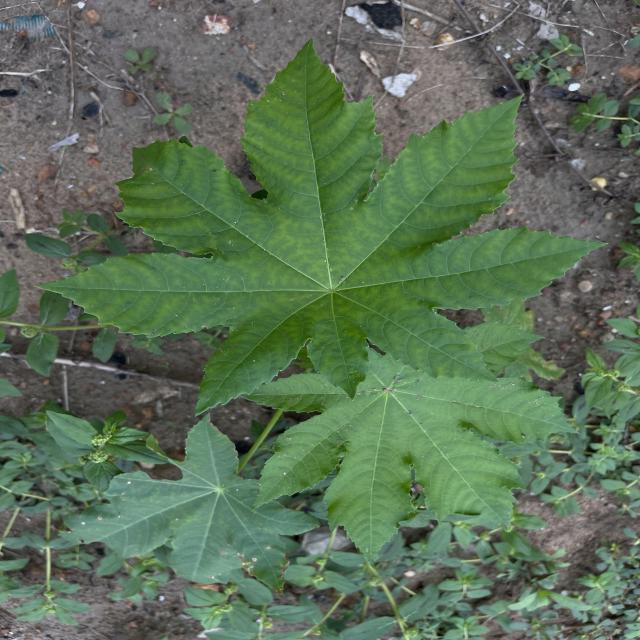Ricinus communis linn: (29, 32, 616, 422)
